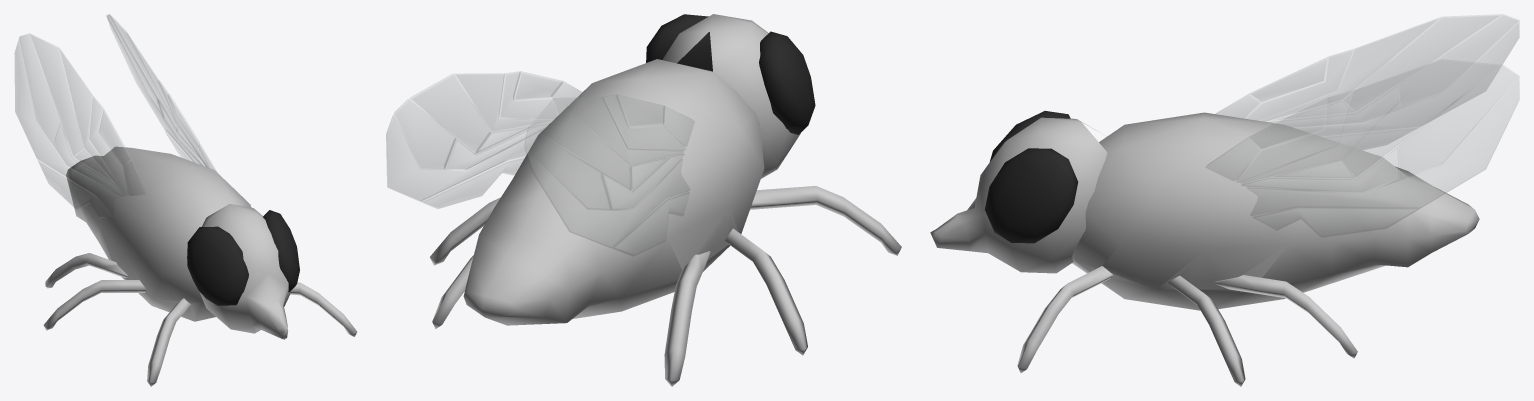
File: fly.glb
3 views of the same model, side by side, from view 1: azimuth 30°, elevation 25°; view 2: azimuth 150°, elevation 25°; view 3: azimuth 270°, elevation 25° (orthographic). The views are drawn at different scales.
Parts seen in each view (by area): view 1: fly; view 2: fly; view 3: fly.
Boxes of the visible parts, <box> form: fly: <box>14,14,357,386</box>; fly: <box>386,14,901,386</box>; fly: <box>930,14,1519,386</box>.
Bounding box in the file's own units: 0.00772 × 0.00607 × 0.012.
Materials: 3 (3 with a texture image).
